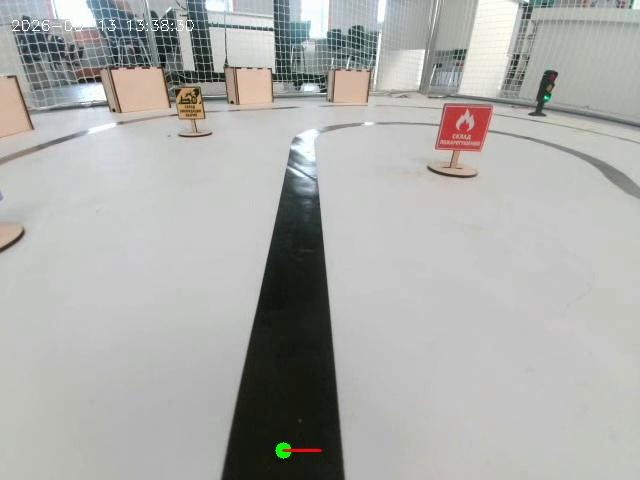fire: (440, 90, 496, 164)
industrial: (169, 84, 218, 129)
